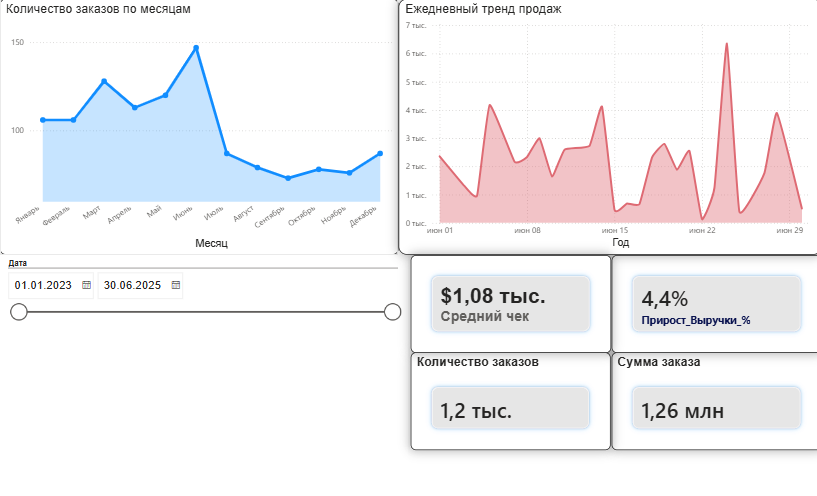

What the dashboard file says about the page in this screenshot:
{"tool":"powerbi","page":{"name":"Страница 1","canvas":[1240,750],"ordinal":0},"visuals":[{"type":"lineChart","title":"Количество заказов по месяцам","fields":{"Category":["clean_sales.date.Изменение.Иерархия дат.Год","clean_sales.date.Изменение.Иерархия дат.Квартал","clean_sales.date.Изменение.Иерархия дат.Месяц","clean_sales.date.Изменение.Иерархия дат.День"],"Y":["CountNonNull(clean_logistics.orderid)"]},"box":[0,0,601.2,386.2],"z":0},{"type":"cardVisual","title":"Сумма заказа","fields":{"Data":["Sum(clean_sales.totalprice)"]},"box":[922.5,533.8,317.5,147.5],"z":1000},{"type":"cardVisual","title":"Количество заказов","fields":{"Data":["CountNonNull(clean_sales.orderid)"]},"box":[620,533.8,301.2,147.5],"z":2000},{"type":"slicer","fields":{"Values":["clean_sales.date"]},"box":[0,386.2,613.8,130],"z":3000},{"type":"cardVisual","fields":{"Data":["clean_sales.Прирост_Выручки_%"]},"box":[922.5,386.2,317.5,147.5],"z":4000},{"type":"areaChart","title":"Ежедневный тренд продаж","fields":{"Y":["Sum(clean_sales.totalprice)"],"Category":["clean_sales.date.Изменение.Иерархия дат.Год","clean_sales.date.Изменение.Иерархия дат.Квартал","clean_sales.date.Изменение.Иерархия дат.Месяц","clean_sales.date.Изменение.Иерархия дат.День"]},"box":[601.2,0,638.8,386.2],"z":5000},{"type":"cardVisual","fields":{"Data":["clean_sales.Средний чек"]},"box":[620,386.2,302.5,147.5],"z":7000}]}

Visuals, with their boxes in screenshot pixels (x1, y1, x2, y2), scaled from the page's 1240x750 canvas onto the 817x496 screenshot:
"Количество заказов по месяцам" lineChart: box(0, 0, 396, 255)
"Сумма заказа" cardVisual: box(608, 353, 816, 451)
"Количество заказов" cardVisual: box(408, 353, 607, 451)
slicer - clean_sales.date: box(0, 255, 404, 341)
cardVisual - clean_sales.Прирост_Выручки_%: box(608, 255, 816, 353)
"Ежедневный тренд продаж" areaChart: box(396, 0, 816, 255)
cardVisual - clean_sales.Средний чек: box(408, 255, 608, 353)
